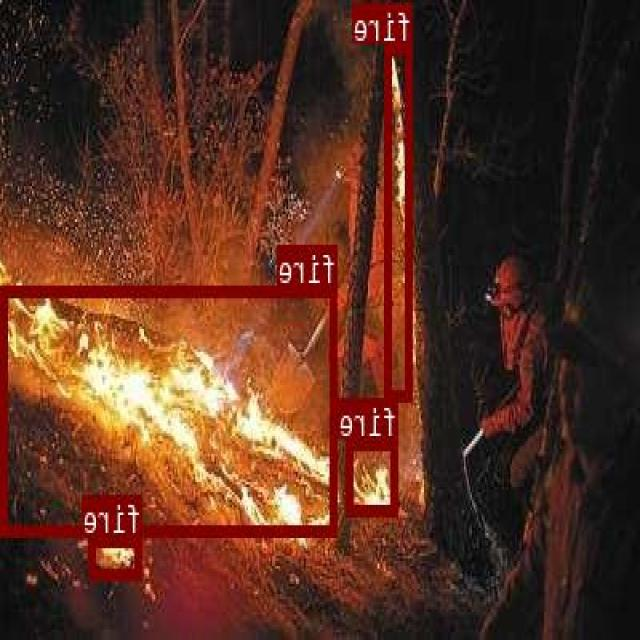fire: (3, 285, 339, 533), (386, 42, 414, 398), (349, 437, 398, 515), (91, 535, 143, 577)
